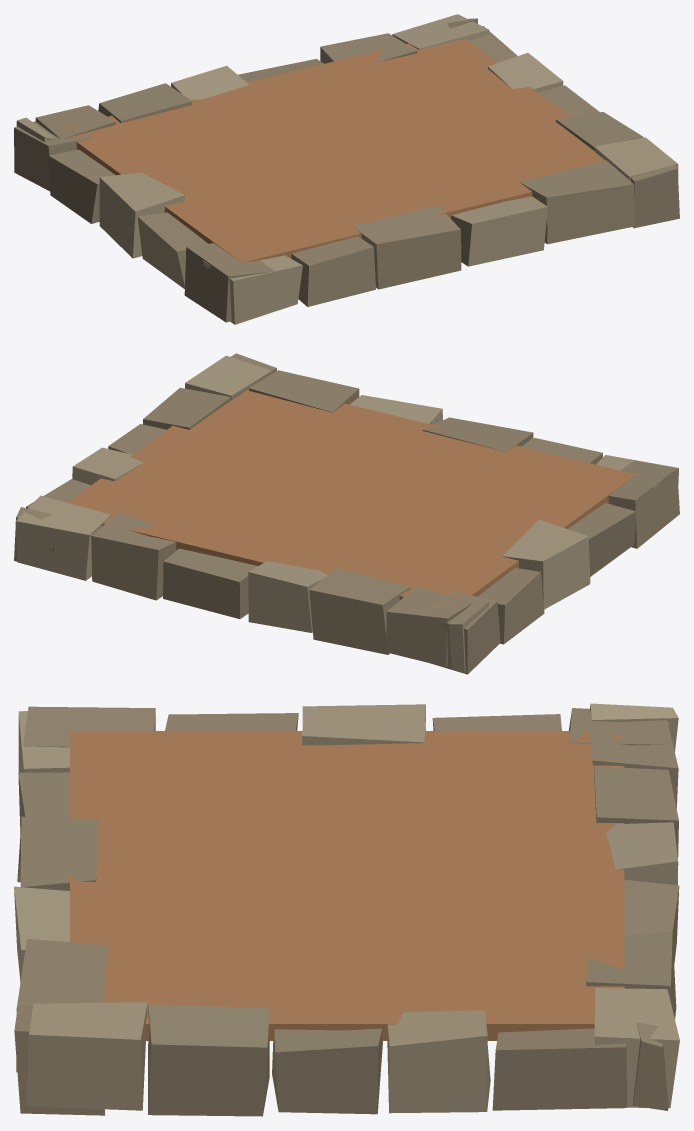
The model's file is foundation.glb.
3 renders of one model, top to bottom at view 1: azimuth 30°, elevation 25°; view 2: azimuth 150°, elevation 25°; view 3: azimuth 270°, elevation 25°, orthographic. The views are drawn at different scales.
Parts seen in each view (by area): view 1: floor, footing, footing_light; view 2: floor, footing, footing_light; view 3: floor, footing, footing_light.
Part boxes in pixels (<box>): floor: <box>66,39,604,262</box>; footing: <box>14,18,679,322</box>; footing_light: <box>16,14,678,324</box>; floor: <box>68,389,635,606</box>; footing: <box>14,353,679,674</box>; footing_light: <box>15,355,678,672</box>; floor: <box>70,731,624,1040</box>; footing: <box>14,706,679,1116</box>; footing_light: <box>14,703,679,1113</box>.
Bounding box in the file's own units: 2.6 × 0.2929 × 2.15.
